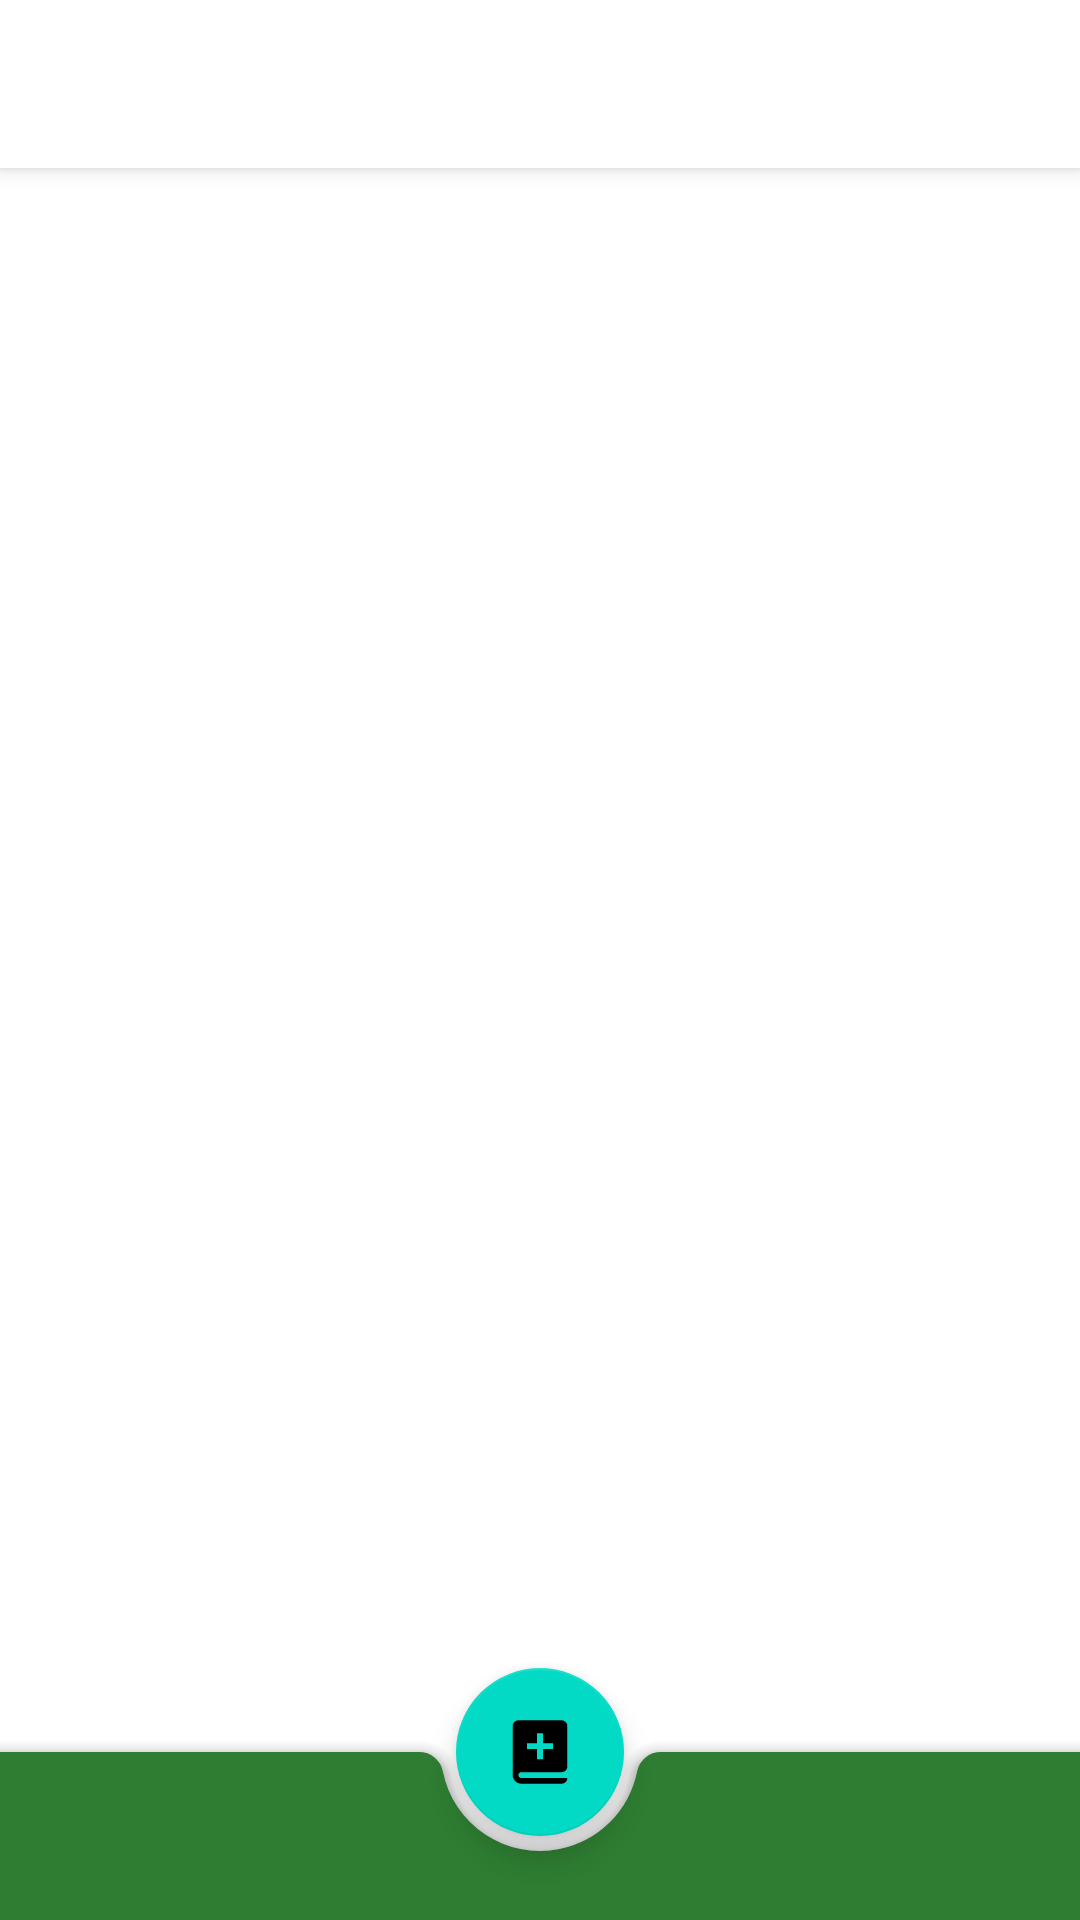

Where to tap for icons on this 1080px x 1920px app screen, as point (x, y):
book add: point (540, 1752)
